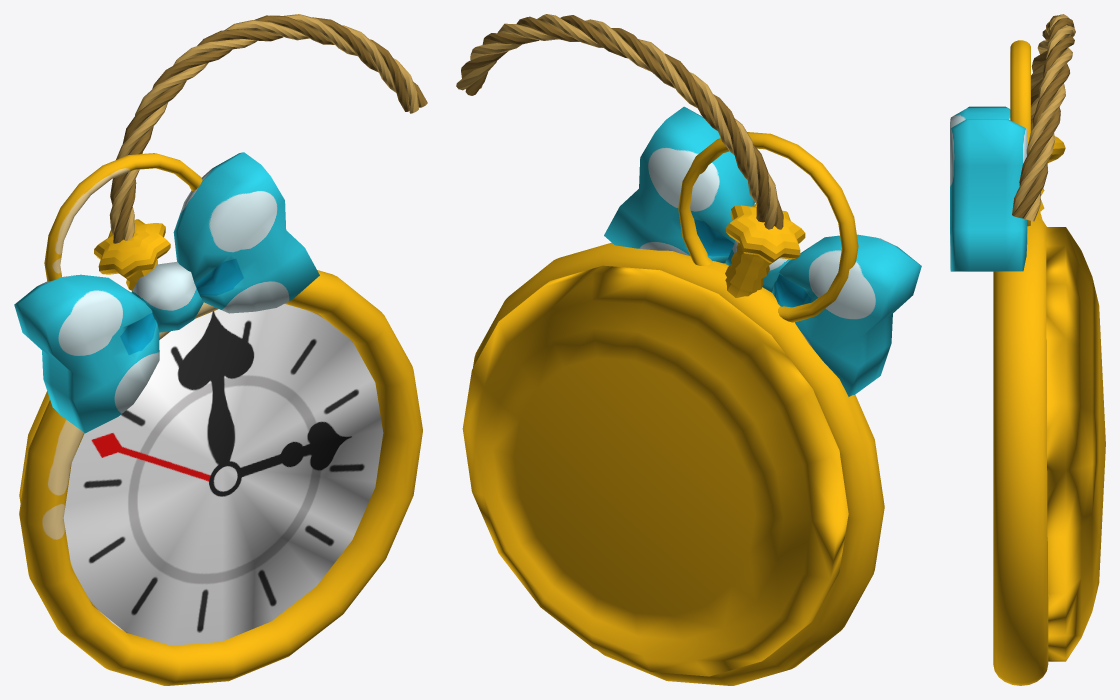
Rendered from AliceBomb.fbx.
3 views of the same model, side by side, from view 1: azimuth 30°, elevation 25°; view 2: azimuth 150°, elevation 25°; view 3: azimuth 270°, elevation 25° (orthographic). The views are drawn at different scales.
Visible parts, largest first — view 1: polySurface503; view 2: polySurface503; view 3: polySurface503.
Part boxes in pixels (<box>): polySurface503: <box>14,14,427,685</box>; polySurface503: <box>456,14,921,685</box>; polySurface503: <box>950,14,1105,685</box>.
Bounding box in the file's own units: 0.965 × 0.3002 × 1.41.
4 materials, 4 textured.
